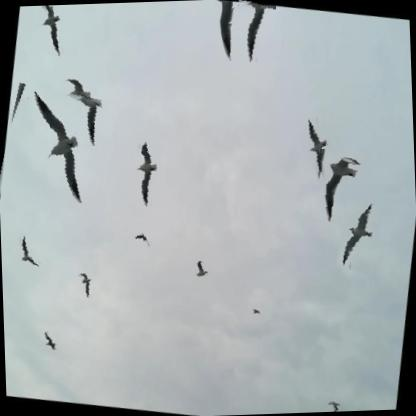bird: (0, 84, 117, 212), (315, 149, 366, 230), (337, 196, 384, 274), (54, 73, 103, 142), (123, 141, 167, 214), (230, 1, 276, 67), (300, 113, 340, 186), (25, 5, 76, 57), (10, 231, 49, 276), (73, 270, 99, 306), (192, 257, 212, 283), (41, 329, 60, 355), (131, 228, 153, 250), (324, 396, 343, 413), (253, 307, 263, 317)
